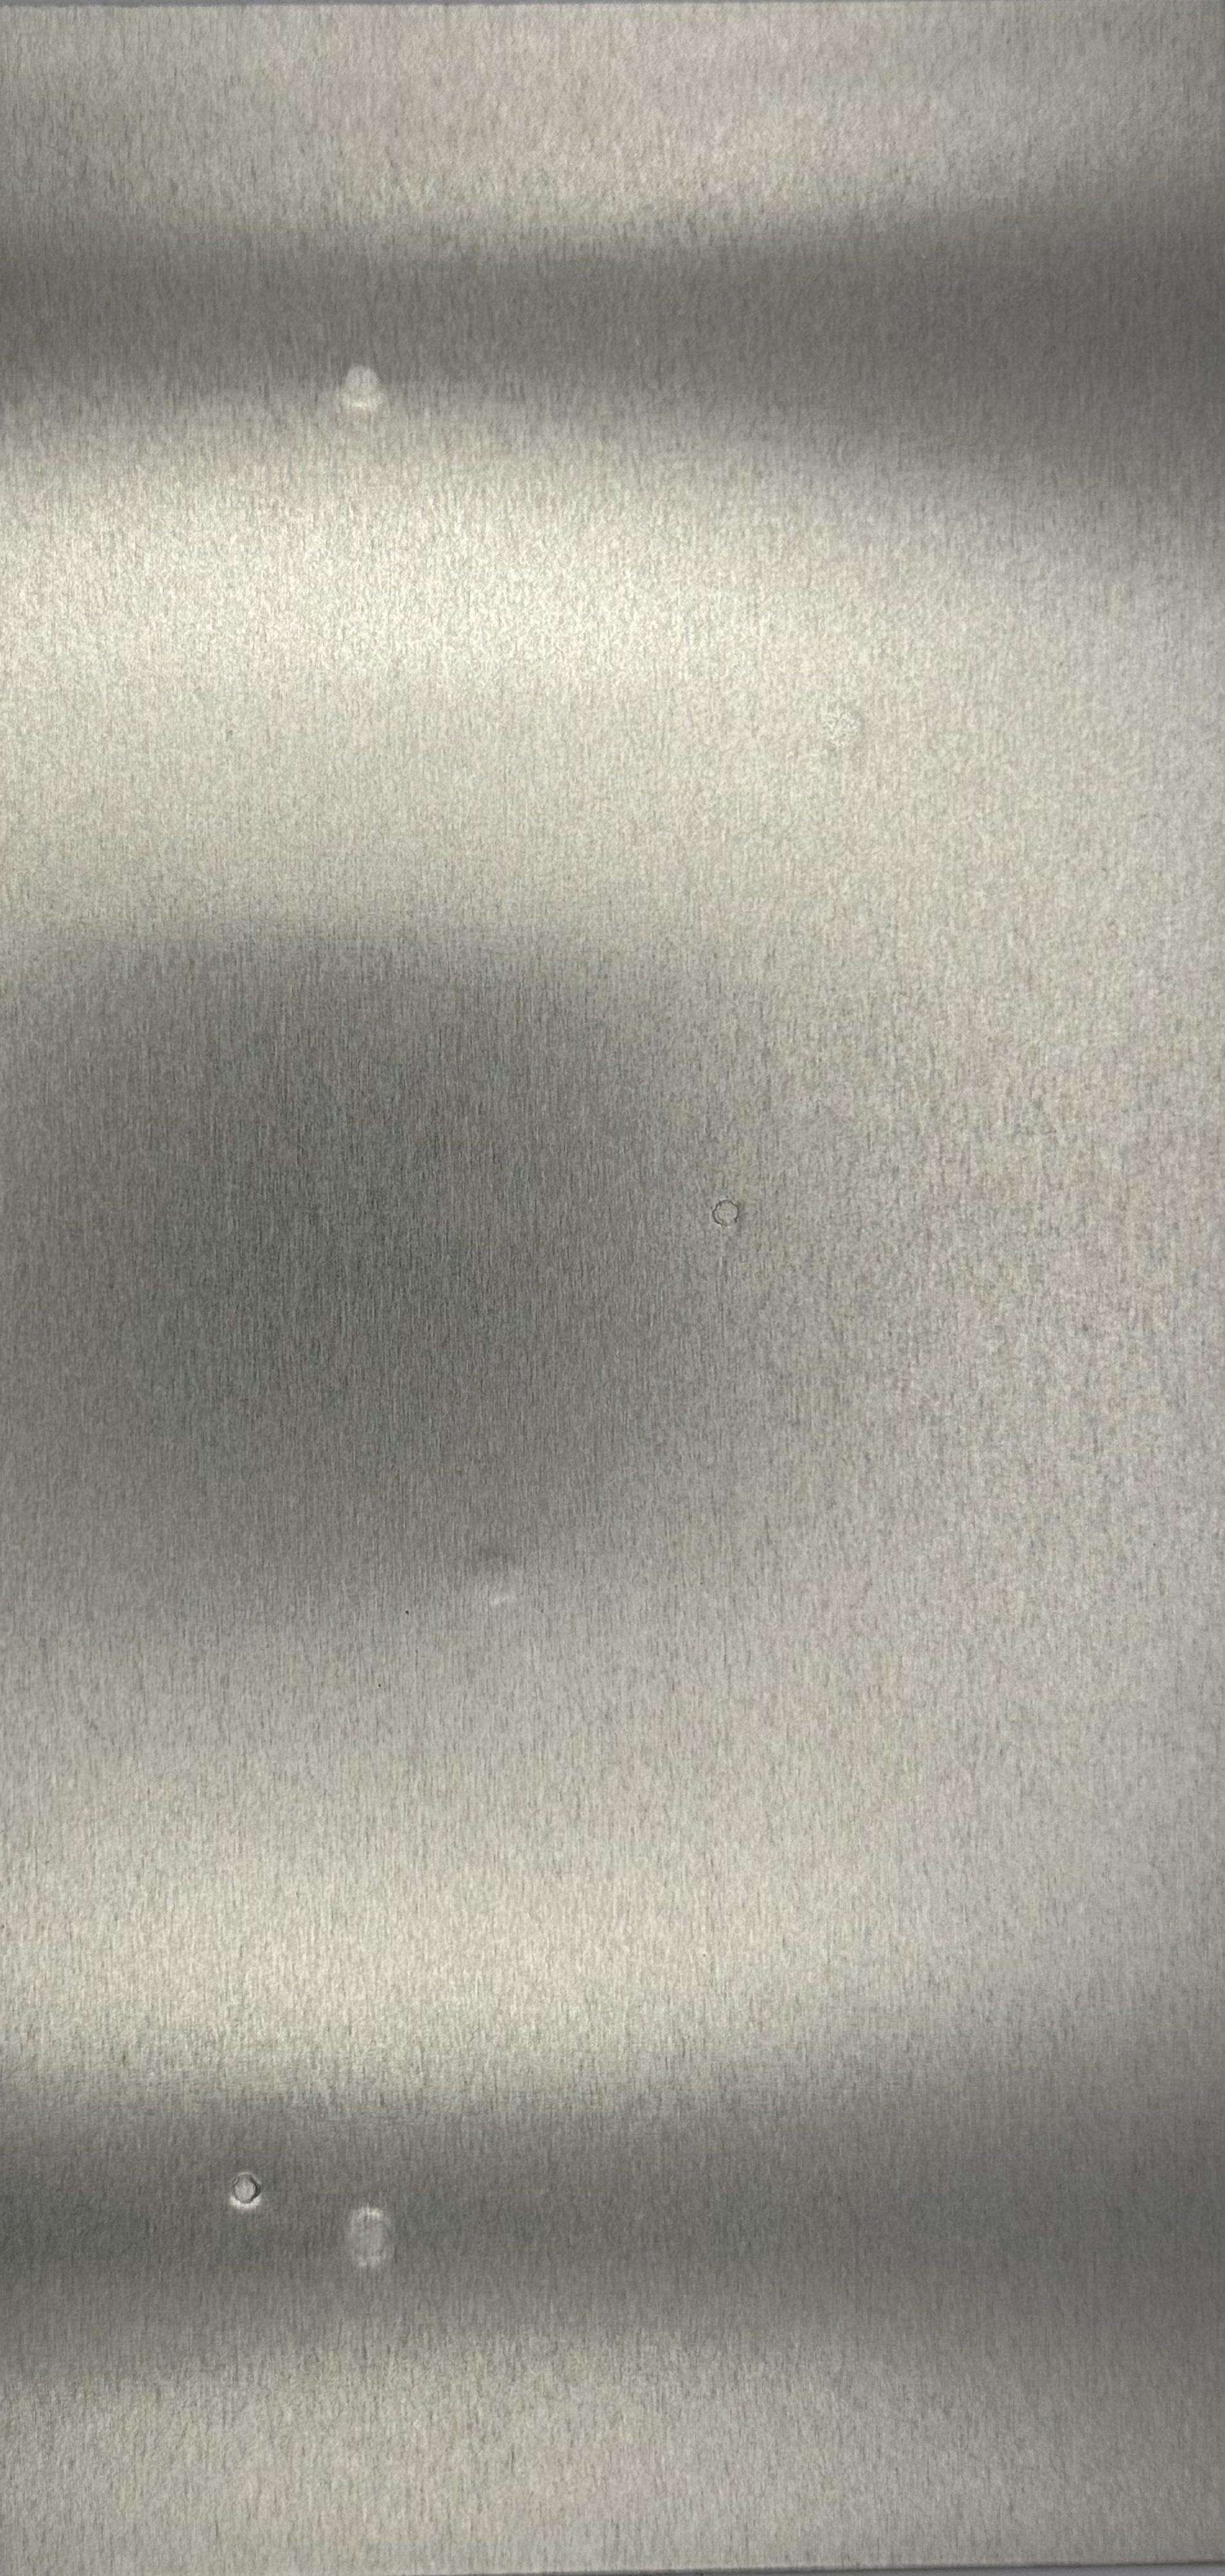Delle: (788, 682, 893, 784), (322, 2196, 422, 2282), (314, 342, 409, 429), (448, 1534, 530, 1625), (210, 2157, 284, 2231), (695, 1188, 757, 1237)
